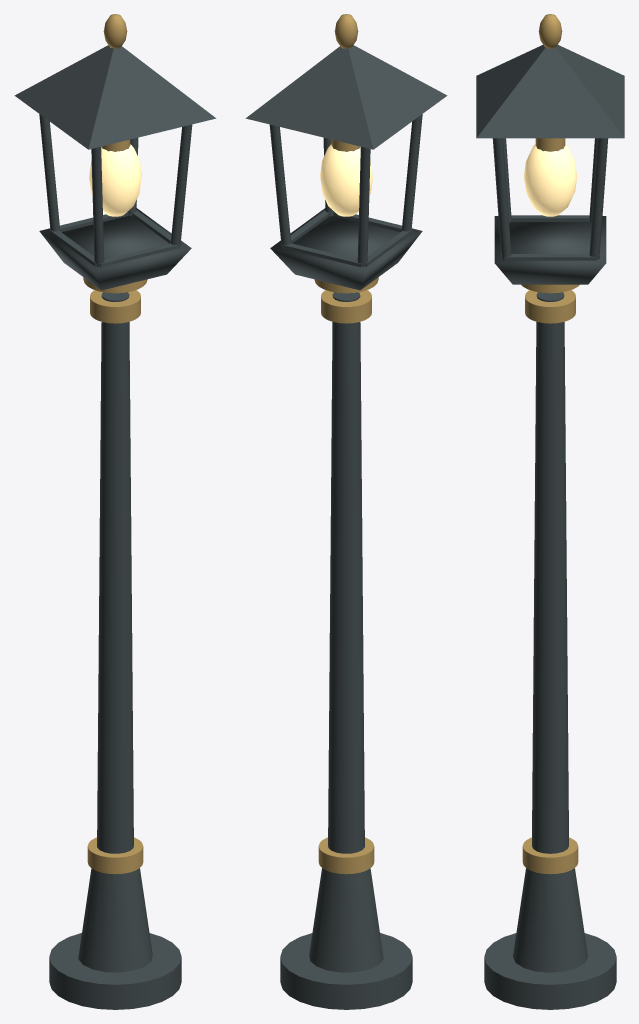
The model's file is streetlight_classic_lantern.glb.
3 views of the same model, side by side, from view 1: azimuth 30°, elevation 25°; view 2: azimuth 150°, elevation 25°; view 3: azimuth 270°, elevation 25° (orthographic).
Parts seen in each view (by area): view 1: Lantern_Post_Shaft, Lantern_Roof, Lantern_Post_Foot, Lantern_Post_Pedestal, Lantern_Housing_Foot, Lantern_Warm_Bulb, Lantern_Post_Collar_0.66, Lantern_Post_Collar_3.5, Lantern_Corner_(0.25, -0.25), Lantern_Corner_(-0.25, -0.25), Lantern_Corner_(-0.25, 0.25), Lantern_Finial (+1 smaller); view 2: Lantern_Post_Shaft, Lantern_Roof, Lantern_Post_Foot, Lantern_Post_Pedestal, Lantern_Housing_Foot, Lantern_Warm_Bulb, Lantern_Post_Collar_0.66, Lantern_Post_Collar_3.5, Lantern_Corner_(0.25, 0.25), Lantern_Corner_(-0.25, 0.25), Lantern_Corner_(-0.25, -0.25), Lantern_Finial (+1 smaller); view 3: Lantern_Post_Shaft, Lantern_Roof, Lantern_Post_Foot, Lantern_Post_Pedestal, Lantern_Housing_Foot, Lantern_Warm_Bulb, Lantern_Post_Collar_0.66, Lantern_Post_Collar_3.5, Lantern_Corner_(0.25, -0.25), Lantern_Corner_(0.25, 0.25), Lantern_Finial, Lantern_Frame_Y_(3.83, 1) (+3 smaller).
Part boxes in pixels (bbox=[...]): Lantern_Post_Shaft: bbox=[97, 292, 133, 853]; Lantern_Roof: bbox=[14, 45, 216, 149]; Lantern_Post_Foot: bbox=[49, 933, 181, 1009]; Lantern_Post_Pedestal: bbox=[78, 868, 152, 972]; Lantern_Housing_Foot: bbox=[39, 208, 191, 290]; Lantern_Warm_Bulb: bbox=[89, 144, 141, 216]; Lantern_Post_Collar_0.66: bbox=[87, 837, 143, 874]; Lantern_Post_Collar_3.5: bbox=[90, 290, 140, 323]; Lantern_Corner_(0.25, -0.25): bbox=[170, 124, 192, 246]; Lantern_Corner_(-0.25, -0.25): bbox=[91, 147, 104, 266]; Lantern_Corner_(-0.25, 0.25): bbox=[39, 114, 60, 231]; Lantern_Finial: bbox=[103, 14, 127, 48]; Lantern_Post_Shaft: bbox=[328, 292, 364, 853]; Lantern_Roof: bbox=[245, 45, 447, 149]; Lantern_Post_Foot: bbox=[280, 933, 412, 1009]; Lantern_Post_Pedestal: bbox=[309, 868, 383, 972]; Lantern_Housing_Foot: bbox=[270, 208, 422, 290]; Lantern_Warm_Bulb: bbox=[320, 144, 372, 216]; Lantern_Post_Collar_0.66: bbox=[318, 837, 374, 874]; Lantern_Post_Collar_3.5: bbox=[321, 290, 371, 323]; Lantern_Corner_(0.25, 0.25): bbox=[269, 124, 291, 246]; Lantern_Corner_(-0.25, 0.25): bbox=[357, 147, 370, 266]; Lantern_Corner_(-0.25, -0.25): bbox=[401, 114, 422, 231]; Lantern_Finial: bbox=[334, 14, 358, 48]; Lantern_Post_Shaft: bbox=[532, 292, 568, 853]; Lantern_Roof: bbox=[476, 45, 624, 138]; Lantern_Post_Foot: bbox=[484, 933, 616, 1009]; Lantern_Post_Pedestal: bbox=[513, 868, 587, 972]; Lantern_Housing_Foot: bbox=[494, 216, 606, 284]; Lantern_Warm_Bulb: bbox=[524, 144, 576, 216]; Lantern_Post_Collar_0.66: bbox=[522, 837, 578, 874]; Lantern_Post_Collar_3.5: bbox=[525, 290, 575, 323]; Lantern_Corner_(0.25, -0.25): bbox=[492, 138, 511, 259]; Lantern_Corner_(0.25, 0.25): bbox=[589, 138, 608, 259]; Lantern_Finial: bbox=[538, 14, 562, 48]; Lantern_Frame_Y_(3.83, 1): bbox=[504, 254, 596, 260].
Size of the model in its own units: 0.693 by 5 by 0.693.
